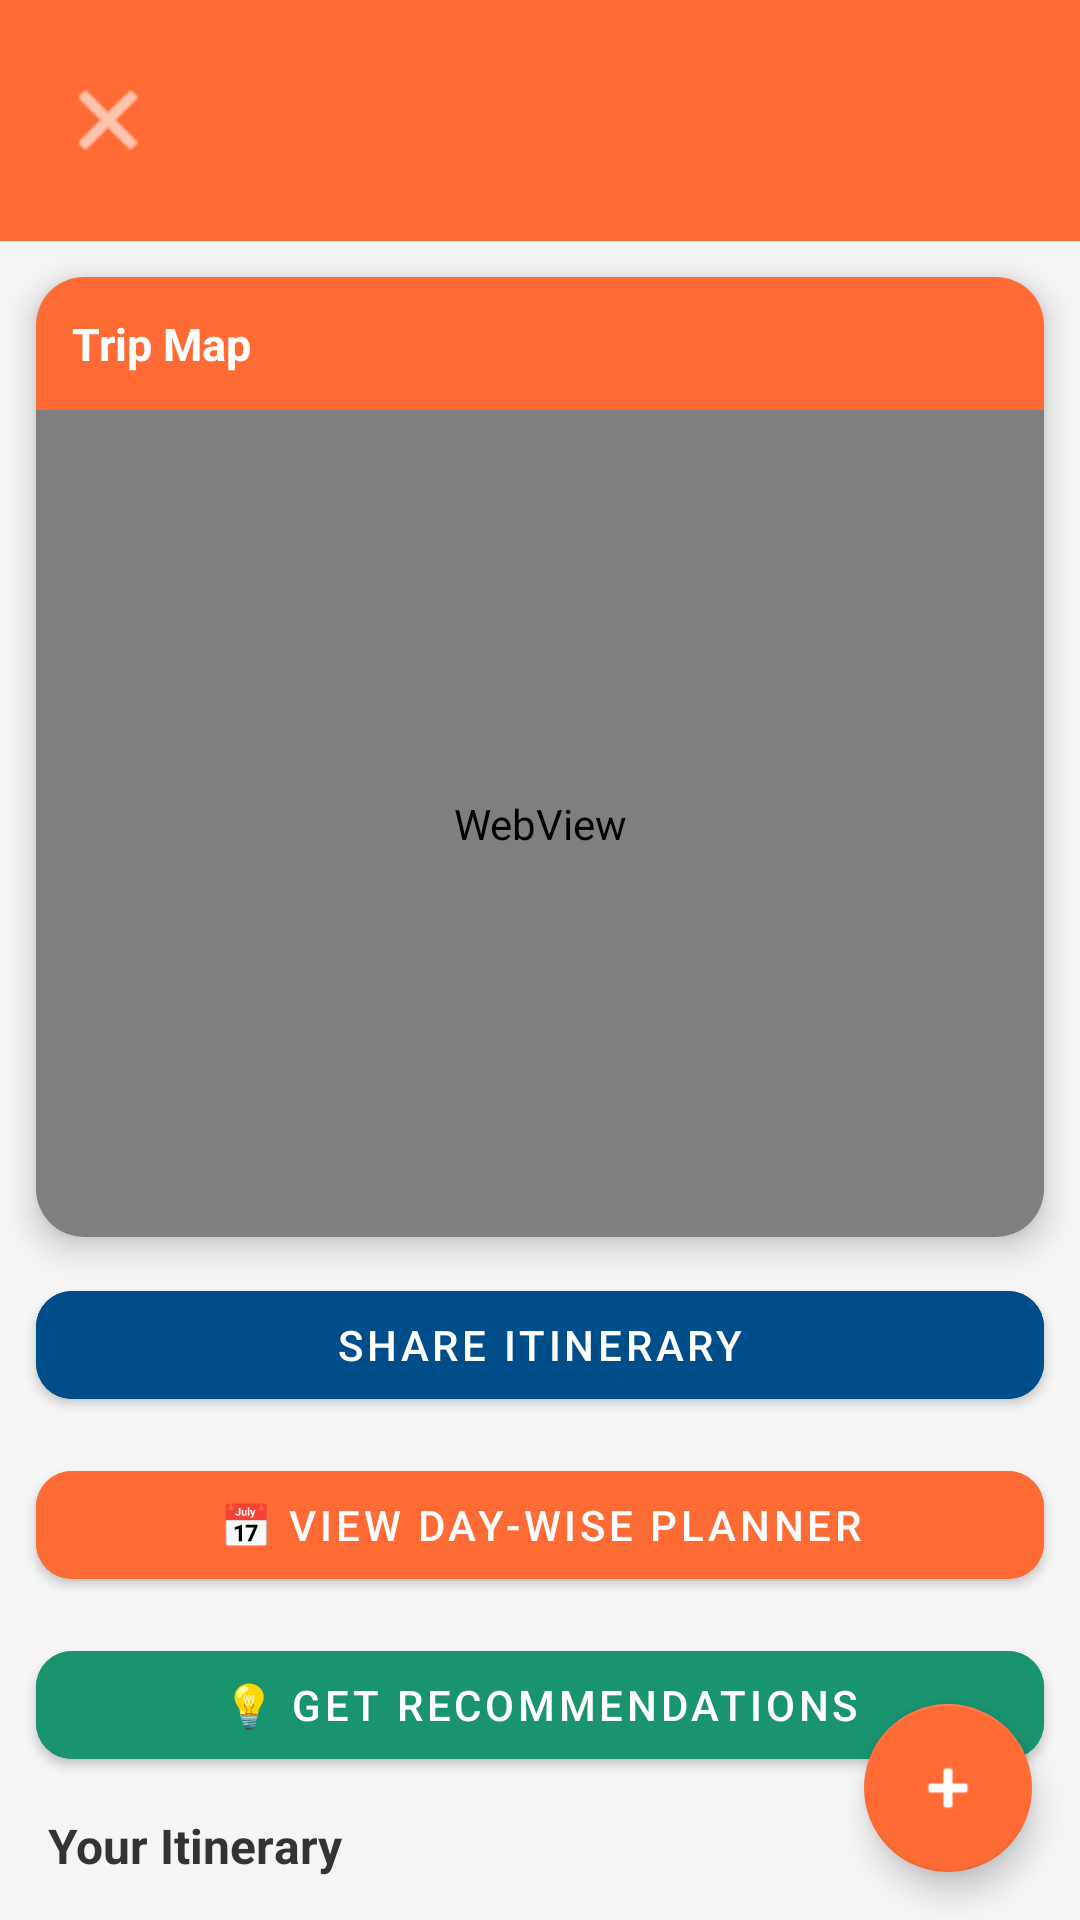

Icon click points for this 1080 × 1920 phone screenshot, format (x,y):
Add destination: (948,1788)
Go back: (108,120)
